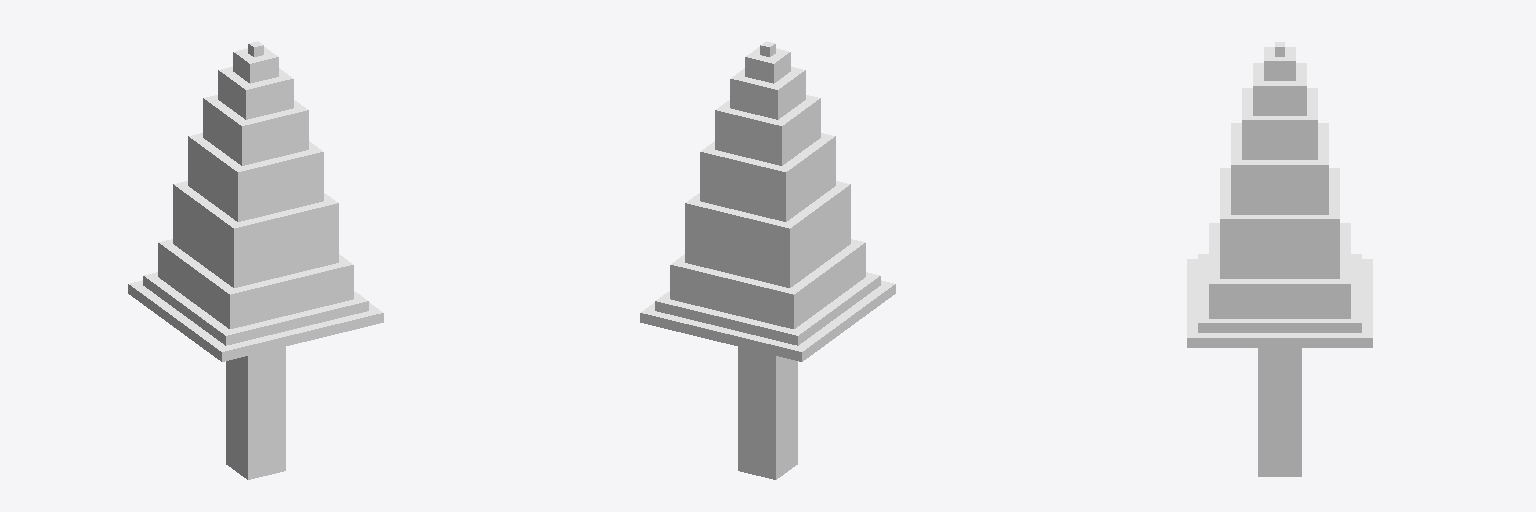
File: evergreenTreeSnow.obj
3 views of the same model, side by side, from view 1: azimuth 30°, elevation 25°; view 2: azimuth 150°, elevation 25°; view 3: azimuth 270°, elevation 25° (orthographic).
Visible parts, largest first — view 1: object 1; view 2: object 1; view 3: object 1.
Boxes of the visible parts, box(x1,y1,x2,y2) form: object 1: box(128, 41, 383, 479); object 1: box(640, 41, 895, 479); object 1: box(1187, 42, 1372, 476).
Size of the model in its own units: 3.4 by 8.5 by 3.4.